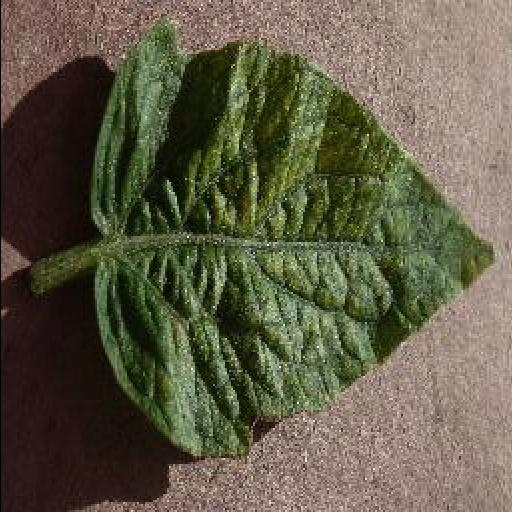disease_tomato: (92, 18, 498, 458)
